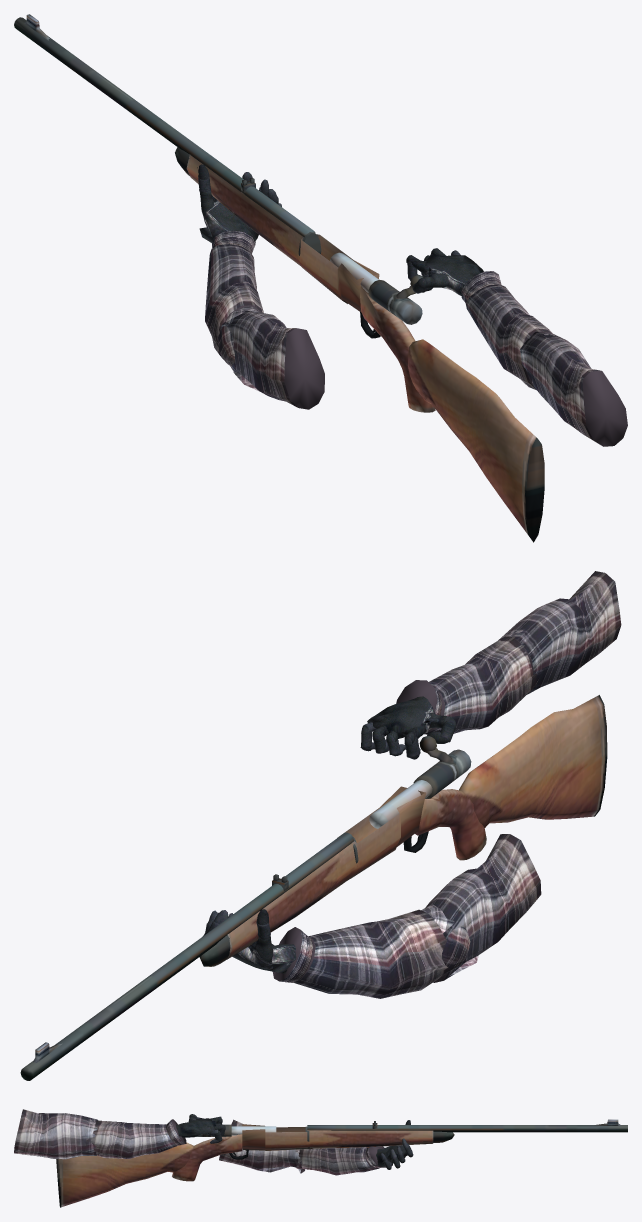
Rendered from R700_rechamber3.fbx.
3 renders of one model, top to bottom at view 1: azimuth 30°, elevation 25°; view 2: azimuth 150°, elevation 25°; view 3: azimuth 270°, elevation 25°, orthographic. The views are drawn at different scales.
Visible parts, largest first — view 1: R700stock, larm, rupperarm, R700grip, rforearm, R700barrel, lhand, R700bolt, rhand; view 2: larm, R700stock, rupperarm, rforearm, R700grip, R700barrel, lhand, R700bolt, rhand, R700breech; view 3: R700stock, R700grip, rupperarm, larm, rforearm, R700barrel, lhand, rhand, R700breech, R700gripfront.
Part boxes in pixels (<box>): R700stock: <box>360,286,544,542</box>; larm: <box>205,230,324,409</box>; rupperarm: <box>520,332,627,446</box>; R700grip: <box>186,154,379,312</box>; rforearm: <box>461,271,552,389</box>; R700barrel: <box>14,17,315,237</box>; lhand: <box>197,164,281,242</box>; R700bolt: <box>368,274,423,324</box>; rhand: <box>424,254,483,296</box>; larm: <box>273,834,541,998</box>; R700stock: <box>415,695,607,860</box>; rupperarm: <box>498,571,621,694</box>; rforearm: <box>396,636,536,734</box>; R700grip: <box>226,786,426,959</box>; R700barrel: <box>20,832,354,1080</box>; lhand: <box>202,909,296,973</box>; R700bolt: <box>413,736,471,798</box>; rhand: <box>367,696,434,738</box>; R700breech: <box>369,780,432,828</box>; R700stock: <box>56,1134,242,1207</box>; R700grip: <box>242,1124,433,1150</box>; rupperarm: <box>14,1109,98,1159</box>; larm: <box>219,1119,385,1175</box>; rforearm: <box>90,1119,186,1158</box>; R700barrel: <box>307,1125,627,1132</box>; lhand: <box>372,1120,413,1169</box>; rhand: <box>176,1118,216,1137</box>; R700breech: <box>231,1126,276,1135</box>; R700gripfront: <box>433,1131,454,1142</box>.
Size of the model in its own units: 12.82 by 13.44 by 71.21.
Materials: 3 (3 with a texture image).
